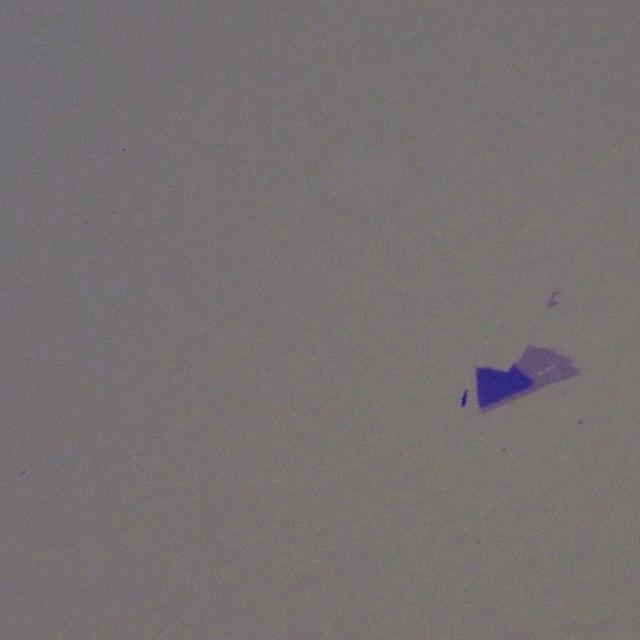monolayer-eWW4: (518, 344, 578, 389)
